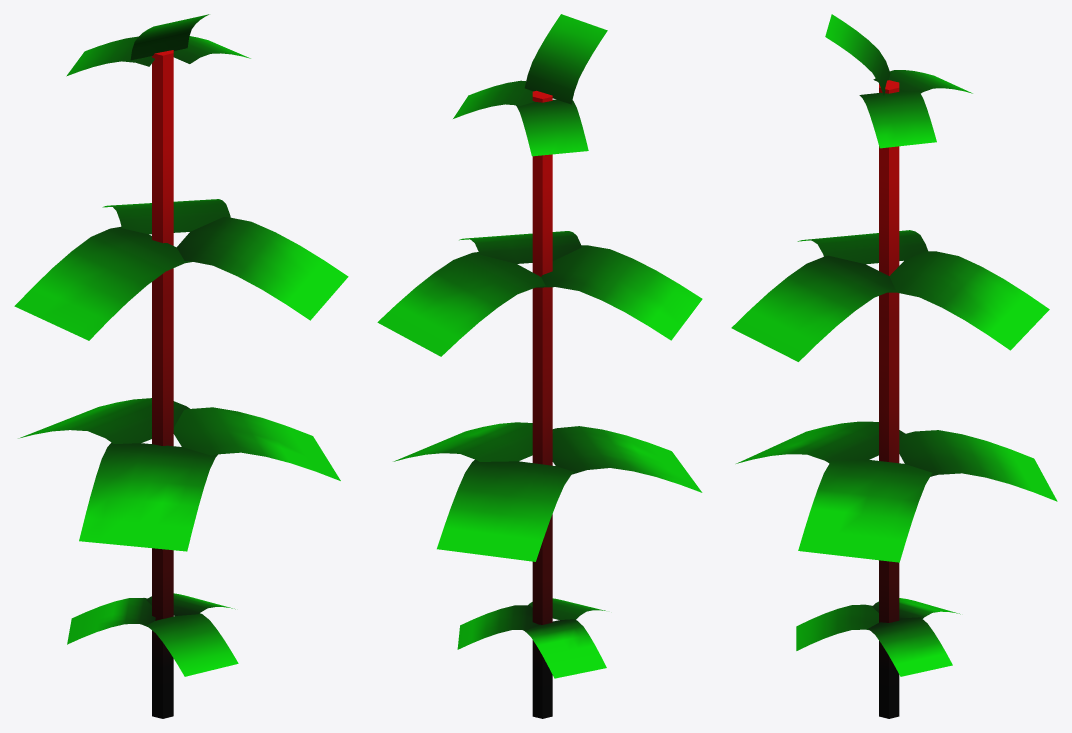
Rendered from grass_merge.fbx.
3 views of the same model, side by side, from view 1: azimuth 30°, elevation 25°; view 2: azimuth 150°, elevation 25°; view 3: azimuth 270°, elevation 25° (orthographic). The views are drawn at different scales.
Parts seen in each view (by area): view 1: grass_merge; view 2: grass_merge; view 3: grass_merge.
Part boxes in pixels (x1,y1,x2,y2): grass_merge: (14, 14, 348, 718); grass_merge: (377, 14, 702, 718); grass_merge: (731, 14, 1057, 718).
Size of the model in its own units: 27.67 by 63.78 by 27.63.
